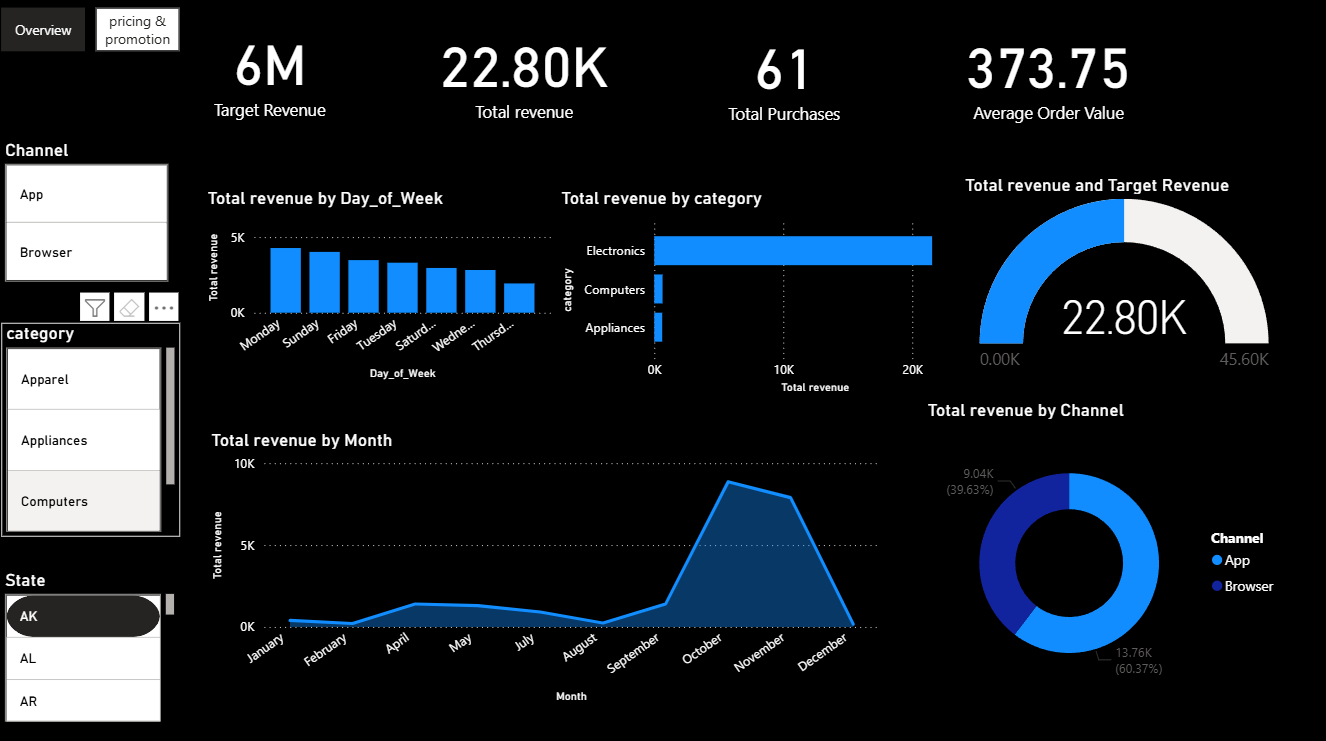

Layout of this report page (visuals, bound fields, positions):
{"tool":"powerbi","page":{"name":"Overview","canvas":[1280,720],"ordinal":0},"visuals":[{"type":"card","fields":{"Values":["Sales_Data_Ecommerce.total revenue"]},"box":[405.4,0,201.5,139.9],"z":0},{"type":"card","fields":{"Values":["Sales_Data_Ecommerce.Target Revenue"]},"box":[173.7,8.4,173.7,119.4],"z":1000},{"type":"card","fields":{"Values":["Sales_Data_Ecommerce.Total Purchases"]},"box":[673.2,8.4,167.7,126.7],"z":2000},{"type":"card","fields":{"Values":["Sales_Data_Ecommerce.Average Order Value"]},"box":[906,0,212.3,142.4],"z":3000},{"type":"columnChart","fields":{"Y":["Sales_Data_Ecommerce.total revenue"],"Category":["Sales_Data_Ecommerce.Day_of_Week"]},"box":[195.4,182.2,341.4,190.6],"z":4000},{"type":"barChart","fields":{"Y":["Sales_Data_Ecommerce.total revenue"],"Category":["Sales_Data_Ecommerce.category","Sales_Data_Ecommerce.sub_category1","Sales_Data_Ecommerce.sub_category2"]},"box":[536.9,182.2,421,203.9],"z":5000},{"type":"donutChart","title":"Total revenue by Channel","fields":{"Category":["Sales_Data_Ecommerce.Channel"],"Y":["Sales_Data_Ecommerce.total revenue"]},"box":[890.4,386.1,353.5,298],"z":6000},{"type":"gauge","fields":{"Y":["Sales_Data_Ecommerce.Total revenue"],"TargetValue":["Sales_Data_Ecommerce.Target Revenue"]},"box":[926.5,168.9,317.3,200.3],"z":7000},{"type":"areaChart","fields":{"Y":["Sales_Data_Ecommerce.Total revenue"],"Category":["Sales_Data_Ecommerce.event date.Variation.Date Hierarchy.Month"]},"box":[199.1,415,653.9,269],"z":8000},{"type":"advancedSlicerVisual","fields":{"Values":["Sales_Data_Ecommerce.Channel"]},"box":[0,135.1,167.7,142.4],"z":9000},{"type":"advancedSlicerVisual","fields":{"Values":["Sales_Data_Ecommerce.category"]},"box":[1.2,312.5,172.5,206.3],"z":10000},{"type":"pageNavigator","box":[1.2,8.4,172.5,42.2],"z":11000},{"type":"advancedSlicerVisual","fields":{"Values":["Sales_Data_Ecommerce.State"]},"box":[0,550.1,173.7,154.4],"z":12000}]}

Visuals, with their boxes in screenshot pixels (x1, y1, x2, y2), scaled from the page's 1280x720 canvas onto the 1326x741 screenshot:
card - Sales_Data_Ecommerce.total revenue: {"left": 420, "top": 0, "right": 629, "bottom": 144}
card - Sales_Data_Ecommerce.Target Revenue: {"left": 180, "top": 9, "right": 360, "bottom": 132}
card - Sales_Data_Ecommerce.Total Purchases: {"left": 697, "top": 9, "right": 871, "bottom": 139}
card - Sales_Data_Ecommerce.Average Order Value: {"left": 939, "top": 0, "right": 1158, "bottom": 147}
columnChart - Sales_Data_Ecommerce.total revenue x Sales_Data_Ecommerce.Day_of_Week: {"left": 202, "top": 188, "right": 556, "bottom": 384}
barChart - Sales_Data_Ecommerce.total revenue x Sales_Data_Ecommerce.category: {"left": 556, "top": 188, "right": 992, "bottom": 397}
"Total revenue by Channel" donutChart: {"left": 922, "top": 397, "right": 1289, "bottom": 704}
gauge - Sales_Data_Ecommerce.Total revenue x Sales_Data_Ecommerce.Target Revenue: {"left": 960, "top": 174, "right": 1288, "bottom": 380}
areaChart - Sales_Data_Ecommerce.Total revenue x Sales_Data_Ecommerce.event date.Variation.Date Hierarchy.Month: {"left": 206, "top": 427, "right": 884, "bottom": 704}
advancedSlicerVisual - Sales_Data_Ecommerce.Channel: {"left": 0, "top": 139, "right": 174, "bottom": 286}
advancedSlicerVisual - Sales_Data_Ecommerce.category: {"left": 1, "top": 322, "right": 180, "bottom": 534}
pageNavigator: {"left": 1, "top": 9, "right": 180, "bottom": 52}
advancedSlicerVisual - Sales_Data_Ecommerce.State: {"left": 0, "top": 566, "right": 180, "bottom": 725}
